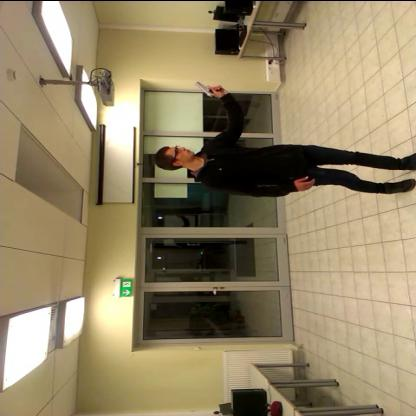Pistol: (190, 78, 228, 96)
